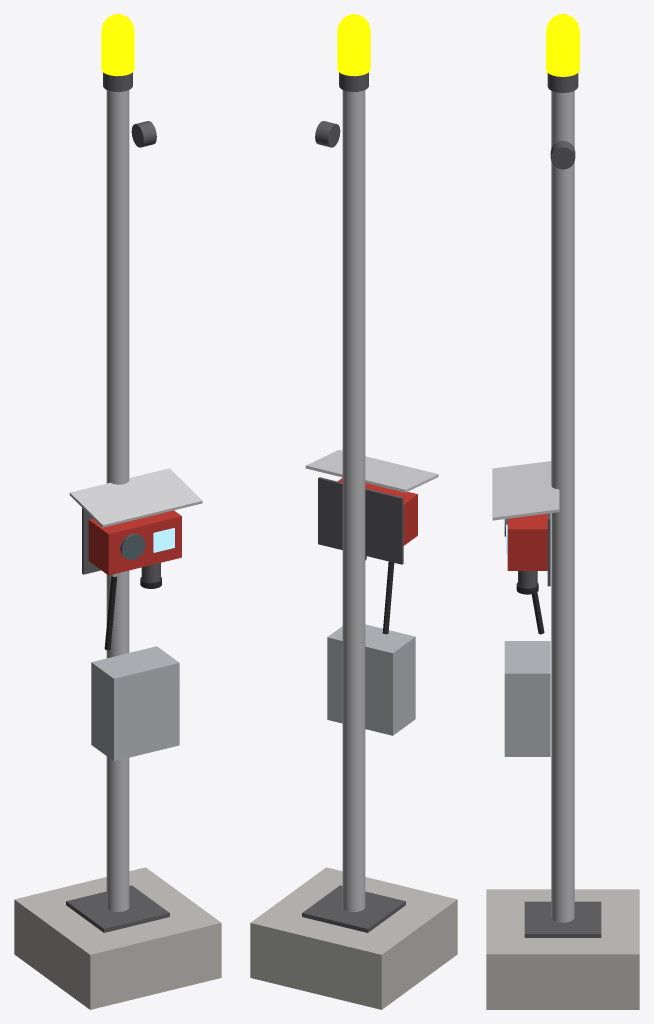
File: SM_GasDetector_Pole.fbx
3 views of the same model, side by side, from view 1: azimuth 30°, elevation 25°; view 2: azimuth 150°, elevation 25°; view 3: azimuth 270°, elevation 25° (orthographic).
Parts seen in each view (by area): view 1: GD_Pole; view 2: GD_Pole; view 3: GD_Pole.
Boxes of the visible parts, x1=… form: GD_Pole: x1=14, y1=14, x2=221, y2=1009; GD_Pole: x1=250, y1=14, x2=457, y2=1009; GD_Pole: x1=486, y1=14, x2=639, y2=1009.
Bounding box in the file's own units: 50 × 346 × 50.
